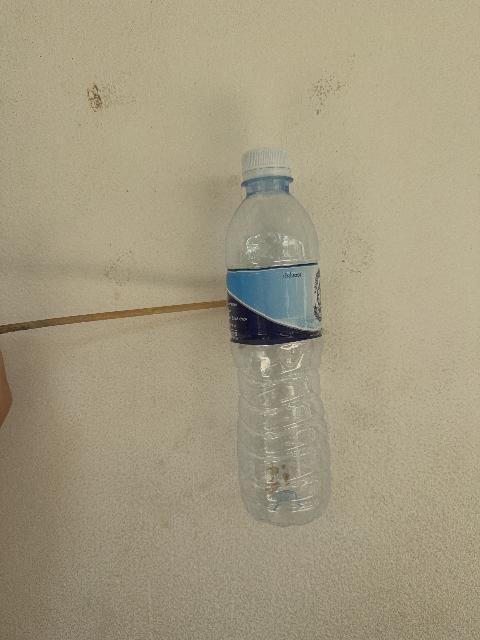bottle: (226, 148, 330, 525)
